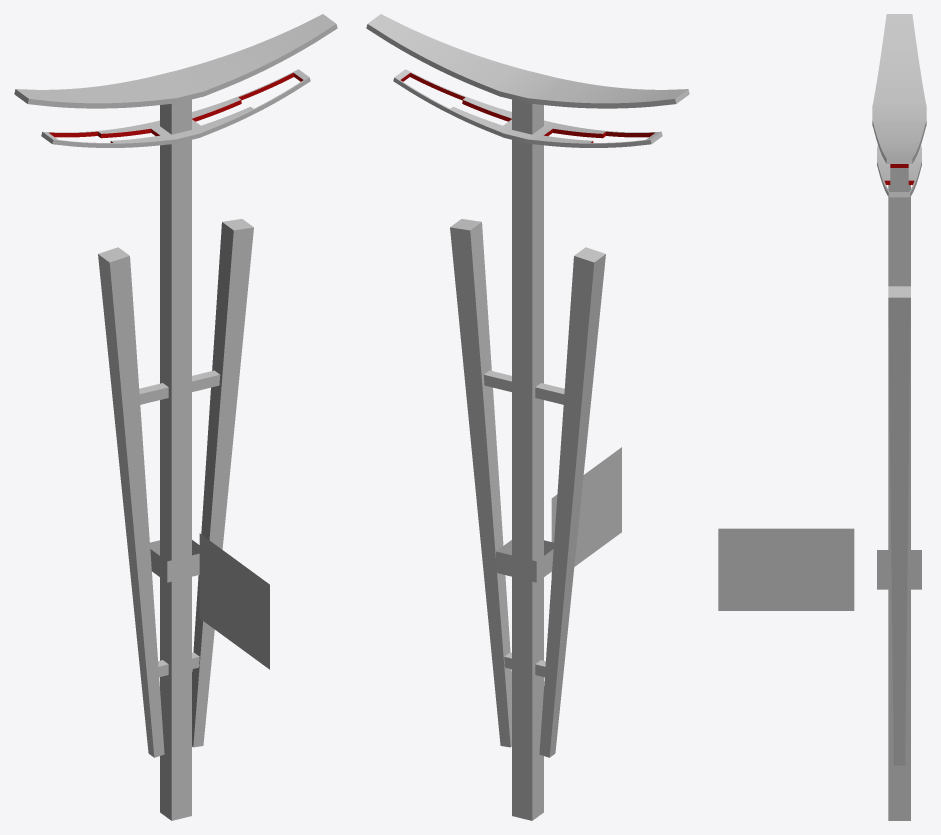
Rendered from Var02_StreetsLights.obj.
3 renders of one model, left to right at view 1: azimuth 30°, elevation 25°; view 2: azimuth 150°, elevation 25°; view 3: azimuth 270°, elevation 25°, orthographic. The views are drawn at different scales.
Visible parts, largest first — view 1: Cube.001_Cube.001, Plane.001_Plane.001, Plane.002_Plane.002; view 2: Cube.001_Cube.001, Plane.001_Plane.001, Plane.002_Plane.002; view 3: Cube.001_Cube.001, Plane.001_Plane.001, Plane.002_Plane.002.
Part boxes in pixels (x1,y1,x2,y2): Cube.001_Cube.001: [14, 14, 337, 820]; Plane.001_Plane.001: [199, 533, 269, 669]; Plane.002_Plane.002: [150, 540, 199, 582]; Cube.001_Cube.001: [366, 14, 689, 820]; Plane.001_Plane.001: [551, 447, 621, 574]; Plane.002_Plane.002: [496, 540, 553, 582]; Cube.001_Cube.001: [872, 14, 926, 820]; Plane.001_Plane.001: [718, 528, 854, 610]; Plane.002_Plane.002: [877, 550, 921, 589].
Size of the model in its own units: 152 by 356 by 92.
